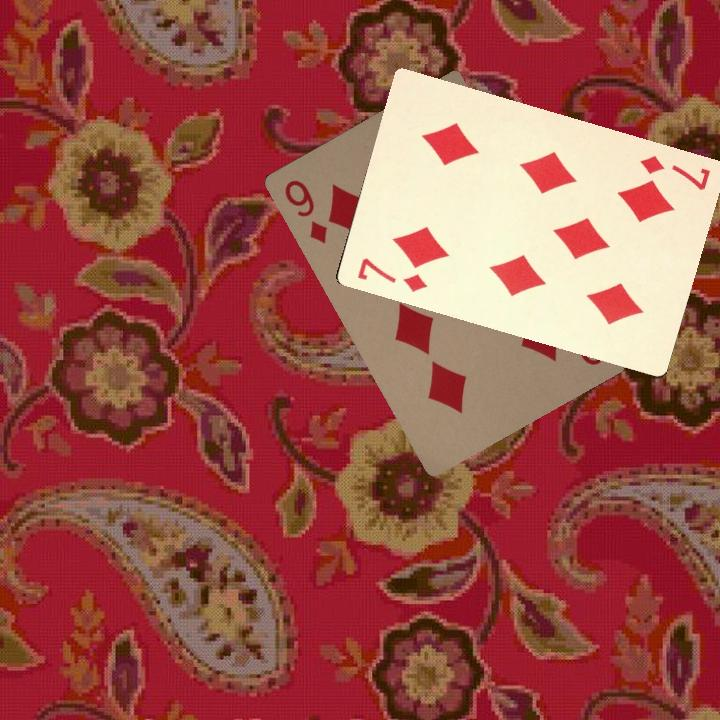7d: (636, 151, 713, 193), (353, 253, 429, 295)
9d: (280, 175, 331, 247)
